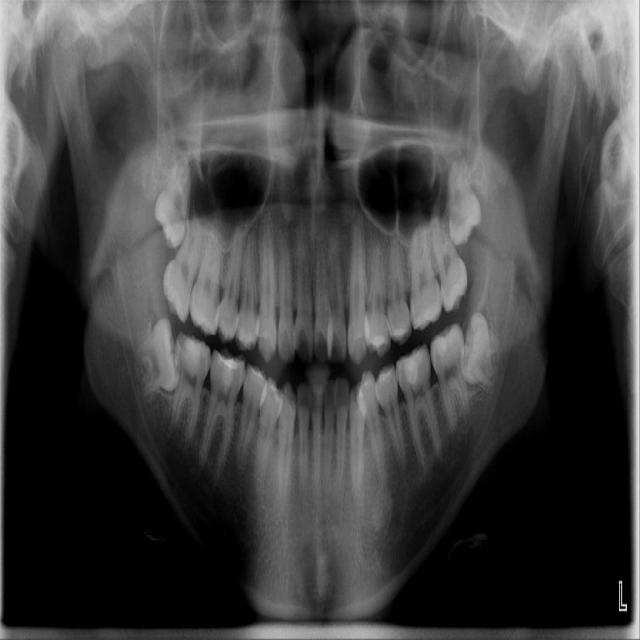Filling: (219, 356, 239, 386), (404, 352, 418, 382), (435, 337, 448, 357), (372, 335, 385, 346)
